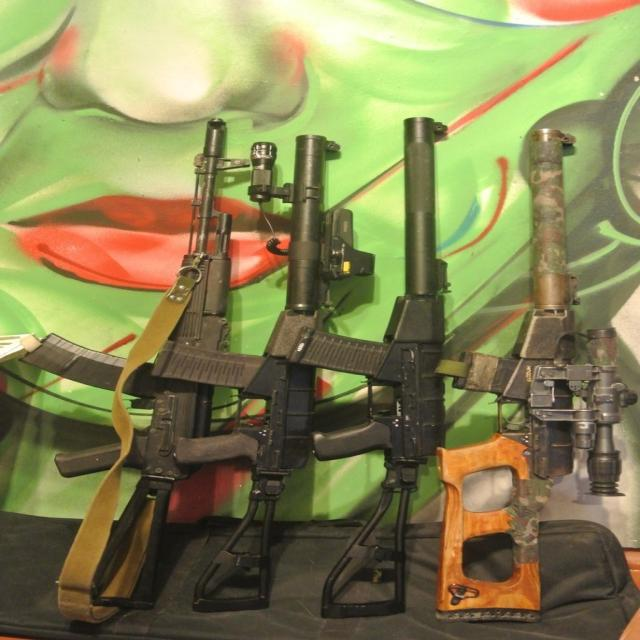firearm: (22, 118, 245, 607), (442, 131, 632, 620), (191, 135, 374, 610), (298, 117, 447, 618)
